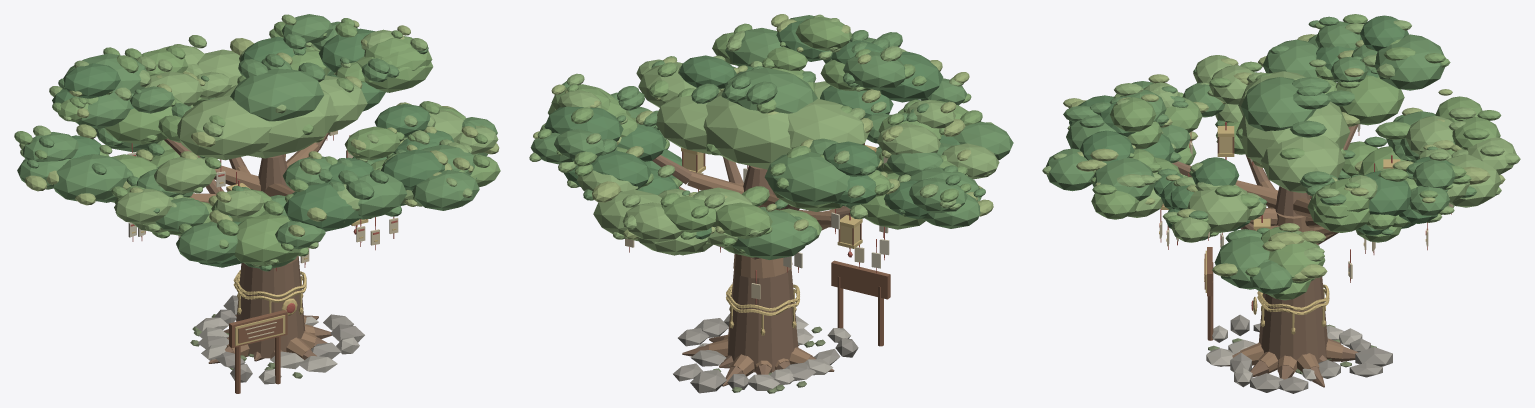
The model's file is cay-khau-nghiep-3d.glb.
The picture shows the model from 3 angles, left to right: view 1: azimuth 30°, elevation 25°; view 2: azimuth 150°, elevation 25°; view 3: azimuth 270°, elevation 25°; orthographic projection. The views are drawn at different scales.
Visible parts, largest first — view 1: leaf1, leaf3, leaf2, leaf4, bark, leaf5, rock2, rock, bark2, wood, gold, paper; view 2: leaf3, leaf1, leaf2, leaf4, bark, leaf5, rock, bark2, wood, rock2, gold, paper2 (+2 smaller); view 3: leaf1, leaf3, leaf2, leaf4, bark, leaf5, bark2, rock, rock2, gold, wood.
Part boxes in pixels (x1,y1,x2,y2): leaf1: [17, 14, 497, 271]; leaf3: [19, 14, 498, 266]; leaf2: [14, 18, 500, 266]; leaf4: [52, 28, 453, 267]; bark: [164, 132, 331, 363]; leaf5: [25, 20, 499, 236]; rock2: [195, 316, 359, 384]; rock: [197, 295, 364, 382]; bark2: [191, 142, 319, 358]; wood: [227, 191, 367, 393]; gold: [132, 131, 396, 345]; paper: [245, 130, 398, 338]; leaf3: [529, 14, 999, 255]; leaf1: [530, 15, 1013, 259]; leaf2: [537, 16, 994, 257]; leaf4: [544, 20, 959, 239]; bark: [652, 155, 850, 386]; leaf5: [533, 14, 993, 239]; rock: [673, 318, 858, 393]; bark2: [687, 171, 837, 376]; wood: [682, 151, 890, 346]; rock2: [697, 314, 850, 390]; gold: [681, 145, 876, 335]; paper2: [716, 168, 889, 268]; leaf1: [1046, 16, 1476, 294]; leaf3: [1042, 20, 1520, 281]; leaf2: [1091, 14, 1501, 300]; leaf4: [1069, 15, 1454, 235]; bark: [1172, 124, 1358, 387]; leaf5: [1063, 34, 1505, 281]; bark2: [1235, 180, 1343, 374]; rock: [1230, 314, 1392, 393]; rock2: [1206, 325, 1362, 387]; gold: [1159, 126, 1426, 334]; wood: [1161, 137, 1255, 340].
Bounding box in the file's own units: 15.71 × 9.51 × 14.73.
